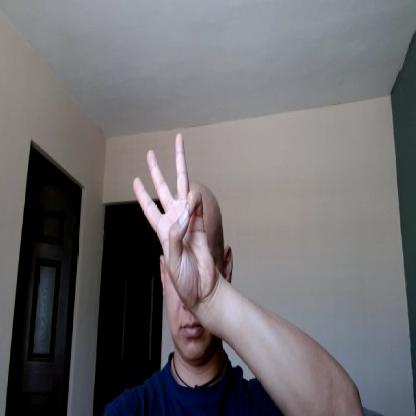W: (132, 129, 214, 306)
